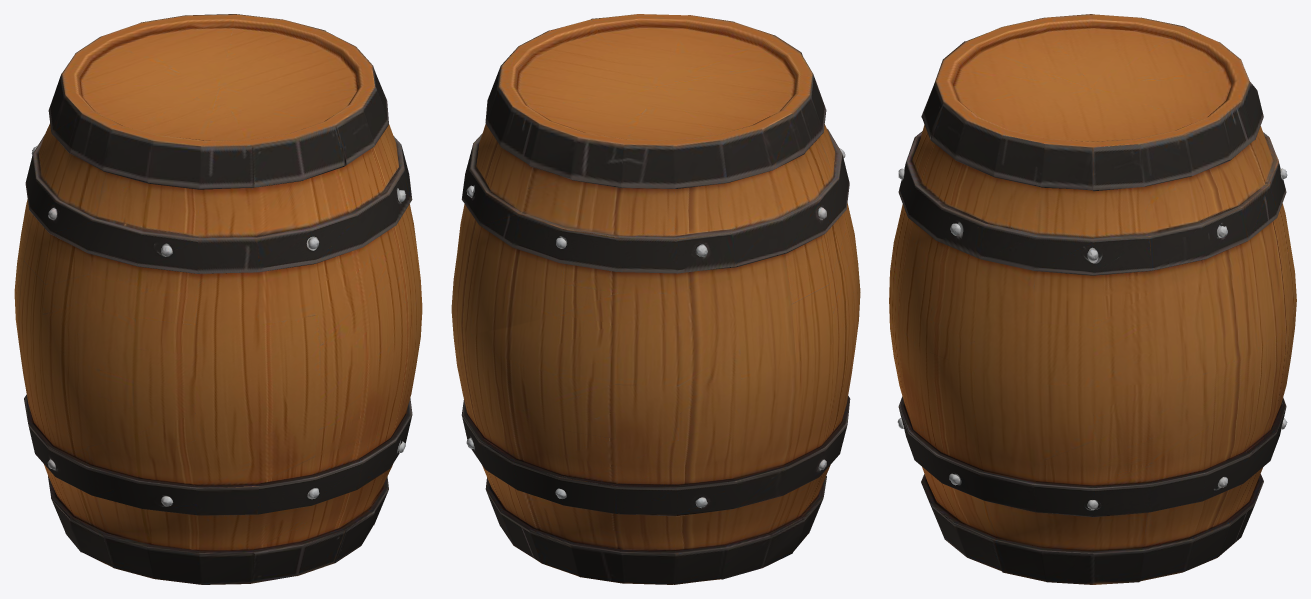
The model's file is barrel_1.glb.
The picture shows the model from 3 angles, left to right: view 1: azimuth 30°, elevation 25°; view 2: azimuth 150°, elevation 25°; view 3: azimuth 270°, elevation 25°; orthographic projection.
Visible parts, largest first — view 1: Mesh_0; view 2: Mesh_0; view 3: Mesh_0.
Boxes of the visible parts, <box> form: Mesh_0: <box>14,14,422,584</box>; Mesh_0: <box>451,14,860,584</box>; Mesh_0: <box>889,14,1296,584</box>.
Size of the model in its own units: 0.592 by 0.7 by 0.5906.
Materials: 1 (1 with a texture image).
